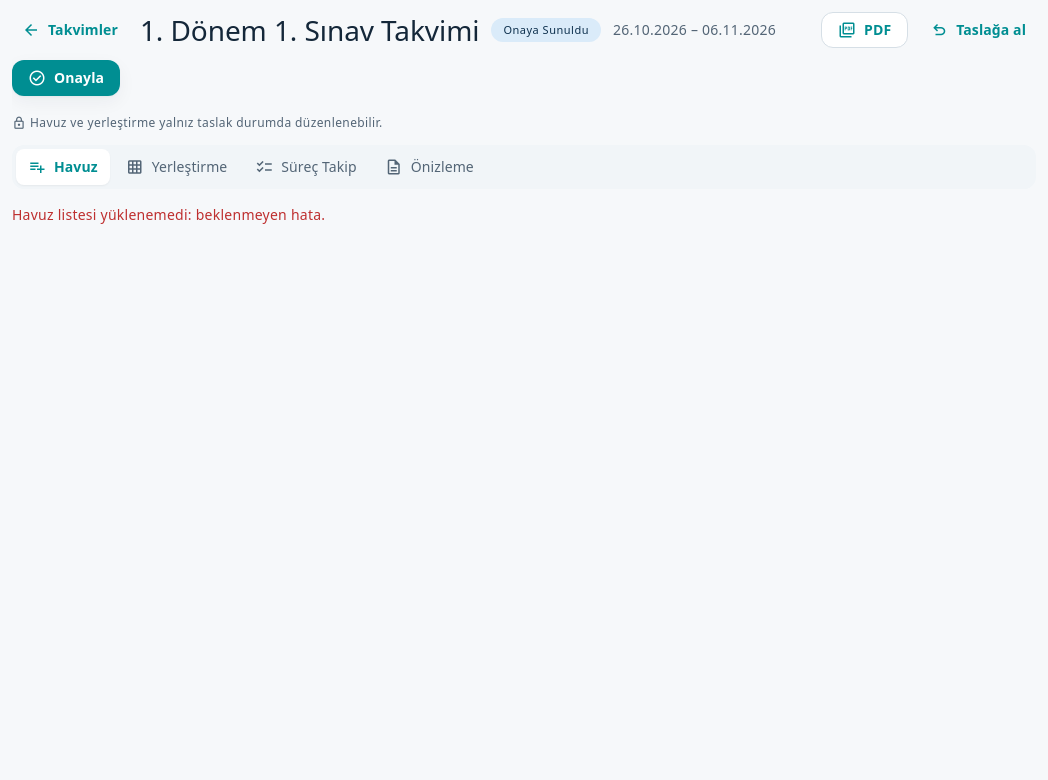
TakvimDetayPage — onay akışı › ONAYA SUNULDU'dan taslağa dönüşte düşecek onay yoktur — diyalog açılmaz
Click the button "Taslağa al": (978, 30) [920,12,1036,48]
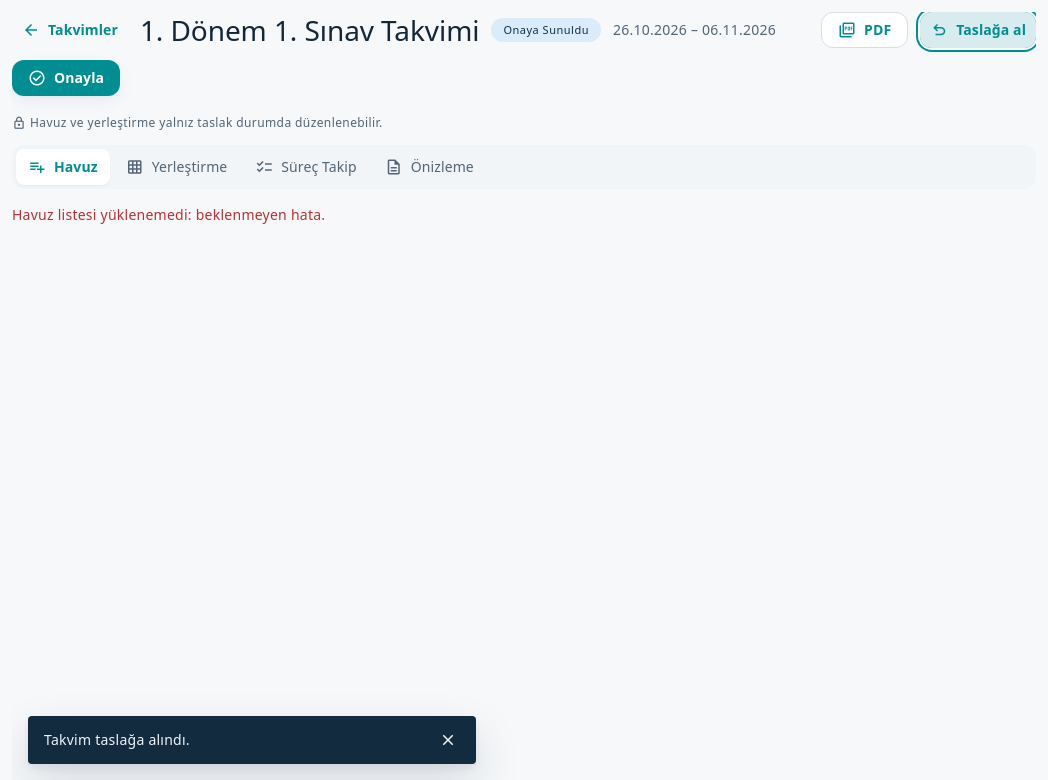
Expected: the text "Takvim taslağa alındı." is shown, [44,730,190,749]
